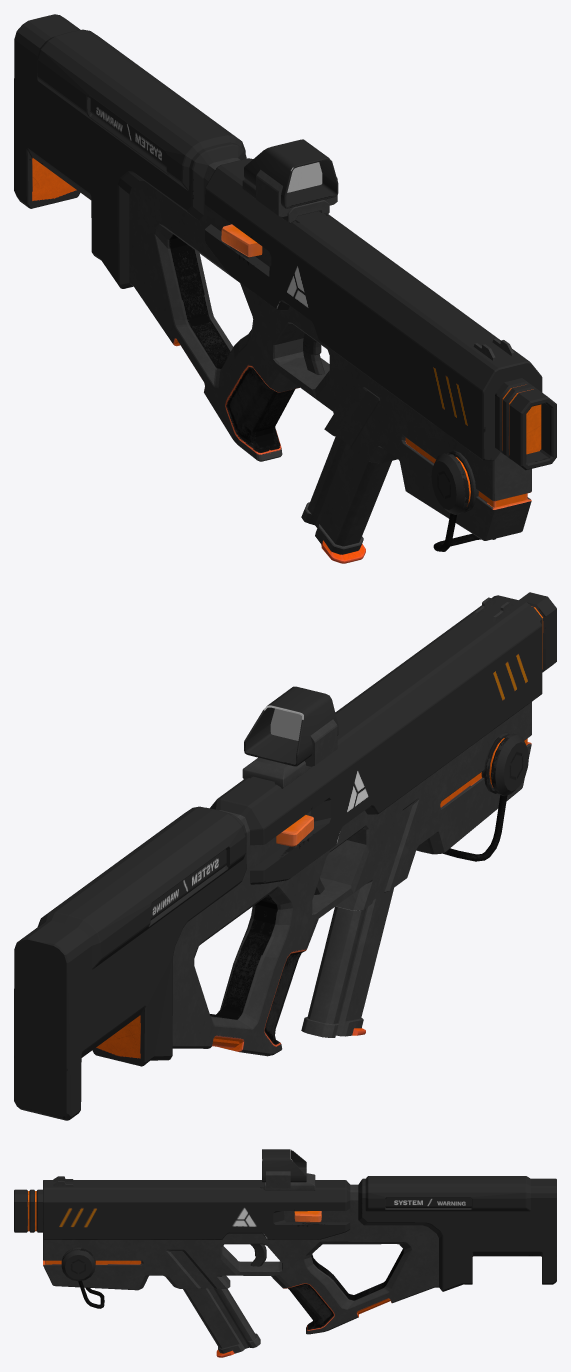
File: AK 9 black.gltf
3 views of the same model, one above another, from view 1: azimuth 30°, elevation 25°; view 2: azimuth 150°, elevation 25°; view 3: azimuth 270°, elevation 25° (orthographic). The views are drawn at different scales.
Visible parts, largest first — view 1: gun, polySurface30, magazine, scope; view 2: gun, magazine, scope, polySurface30; view 3: gun, magazine, polySurface30, scope.
Boxes of the visible parts, x1,y1,x2,y2 form: gun: (14,14,542,540); polySurface30: (431,378,556,551); magazine: (301,436,391,563); scope: (242,139,338,223); gun: (14,595,542,1120); magazine: (301,888,393,1037); scope: (242,686,338,788); polySurface30: (443,592,556,861); gun: (43,1176,556,1334); magazine: (183,1288,260,1357); polySurface30: (14,1189,104,1308); scope: (262,1149,315,1190).
Bounding box in the file's own units: 0.0561 × 0.2637 × 0.6444.
Materials: 2 (1 with a texture image).
